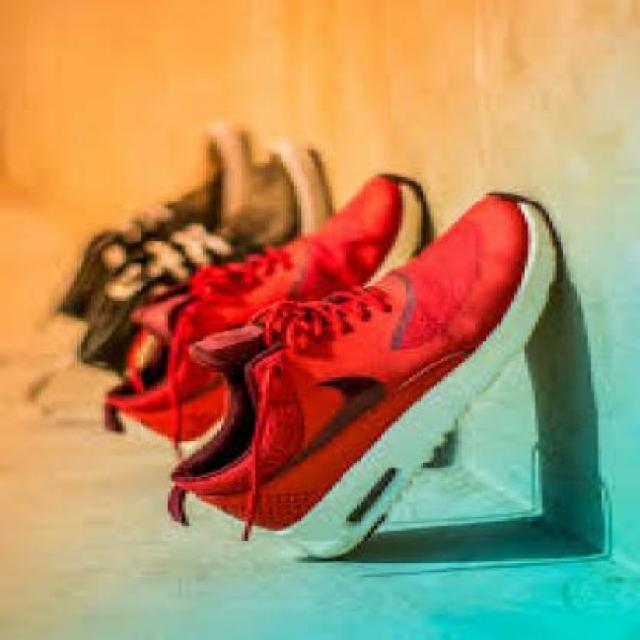Nike: (266, 368, 382, 485)
